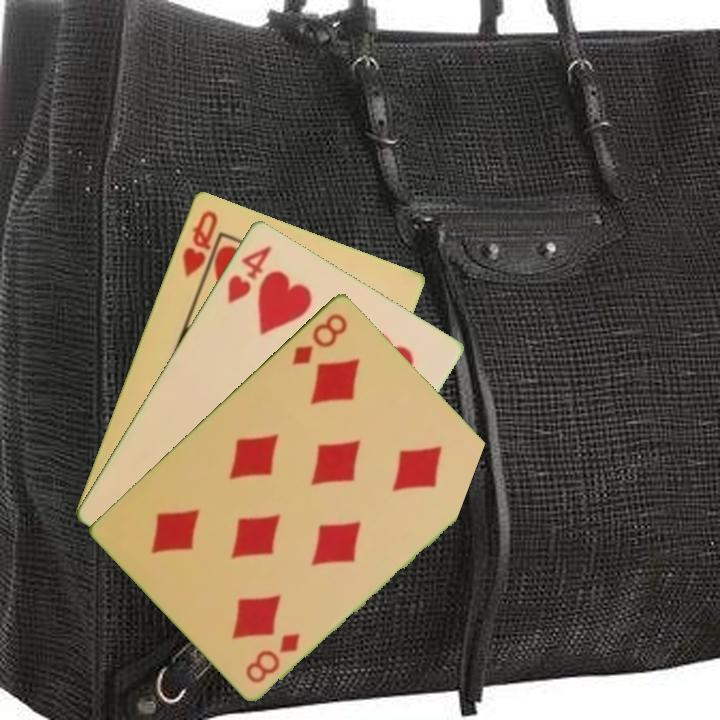4h: (223, 241, 275, 306)
8d: (288, 309, 351, 368), (242, 629, 303, 685)
Qh: (178, 206, 221, 280)
